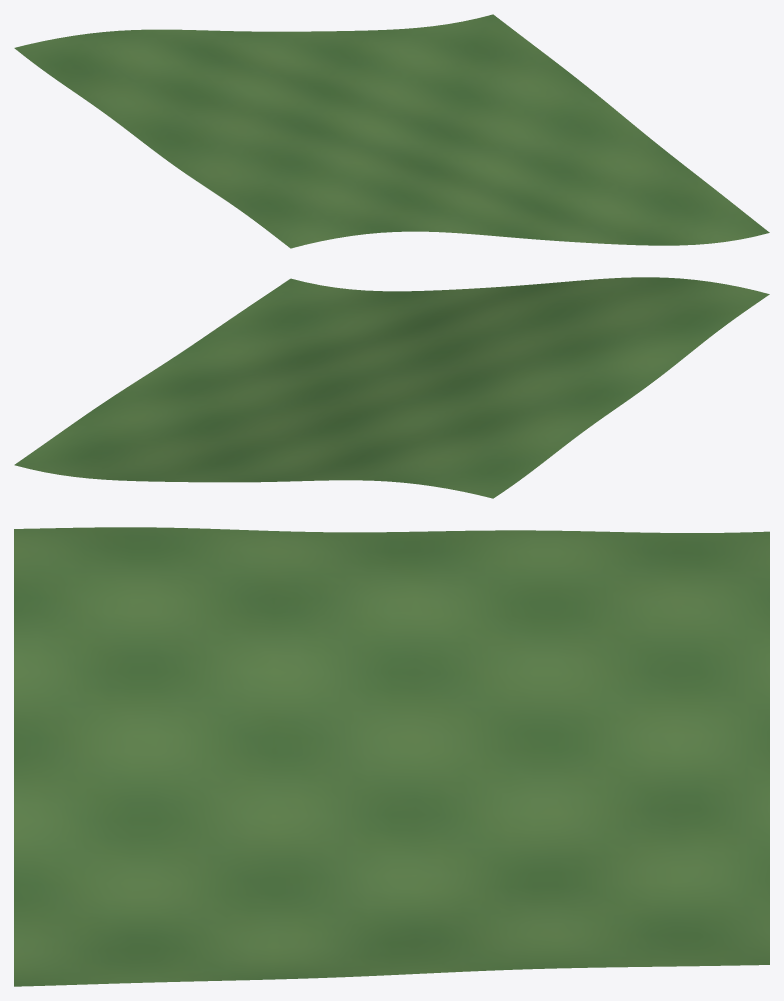
The model's file is chunk_0_2.glb.
The picture shows the model from 3 angles, top to bottom: view 1: azimuth 30°, elevation 25°; view 2: azimuth 150°, elevation 25°; view 3: azimuth 270°, elevation 25°; orthographic projection. The views are drawn at different scales.
Bounding box in the file's own units: 512 × 105 × 512.
